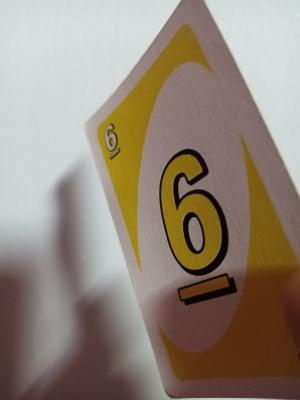num_6: (105, 107, 155, 180)
yellow: (160, 145, 288, 349)
